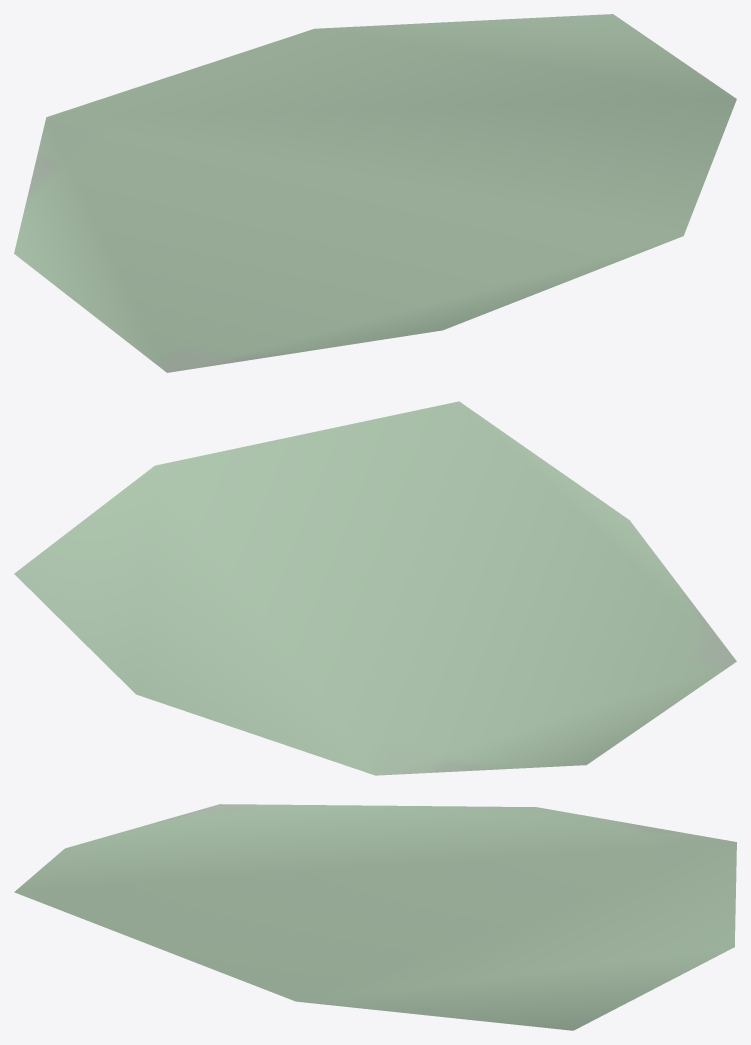
File: TROLLHOLE02_HOLECAP132.fbx
3 renders of one model, top to bottom at view 1: azimuth 30°, elevation 25°; view 2: azimuth 150°, elevation 25°; view 3: azimuth 270°, elevation 25°, orthographic. The views are drawn at different scales.
Parts seen in each view (by area): view 1: TROLLHOLE02_HOLECAP132; view 2: TROLLHOLE02_HOLECAP132; view 3: TROLLHOLE02_HOLECAP132.
Part boxes in pixels (bbox=[...]): TROLLHOLE02_HOLECAP132: bbox=[14, 14, 736, 372]; TROLLHOLE02_HOLECAP132: bbox=[14, 401, 736, 775]; TROLLHOLE02_HOLECAP132: bbox=[14, 804, 736, 1030].
Size of the model in its own units: 21088 by 3623 by 21357.
Materials: 1 (1 with a texture image).
